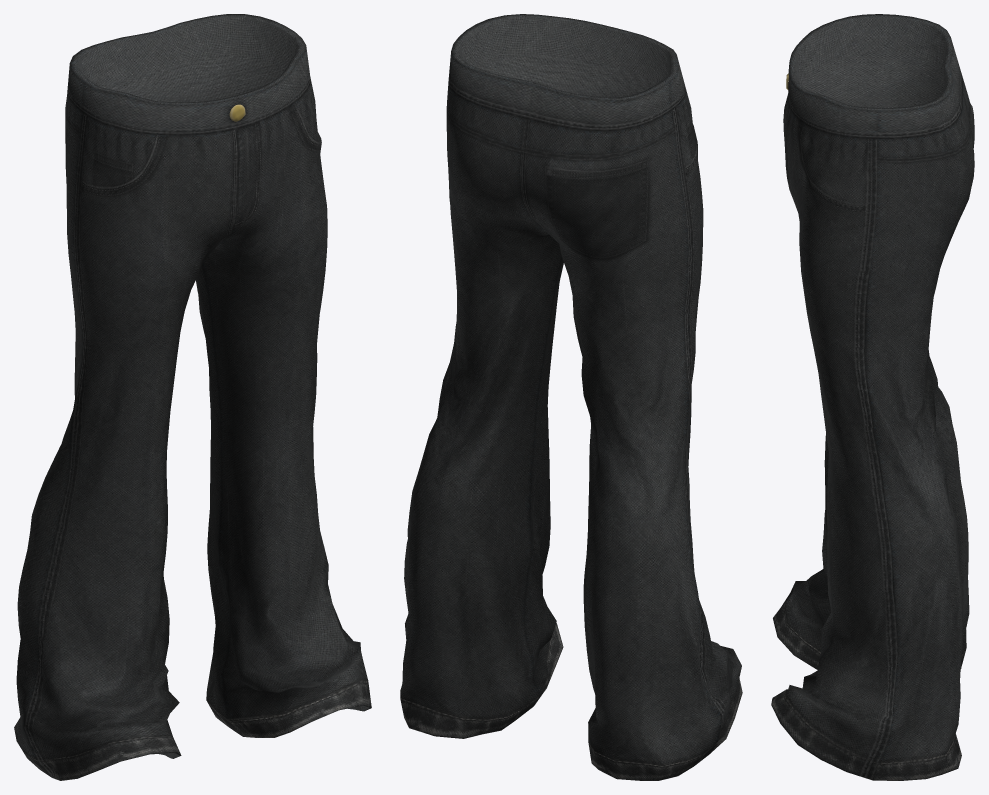
3 views of the same model, side by side, from view 1: azimuth 30°, elevation 25°; view 2: azimuth 150°, elevation 25°; view 3: azimuth 270°, elevation 25° (orthographic). The views are drawn at different scales.
Visible parts, largest first — view 1: hash_06463091.model; view 2: hash_06463091.model; view 3: hash_06463091.model.
Boxes of the visible parts, bbox=[...] form: hash_06463091.model: bbox=[14, 14, 371, 780]; hash_06463091.model: bbox=[400, 14, 742, 780]; hash_06463091.model: bbox=[771, 14, 974, 780].
Size of the model in its own units: 0.5324 by 1.09 by 0.3073.
